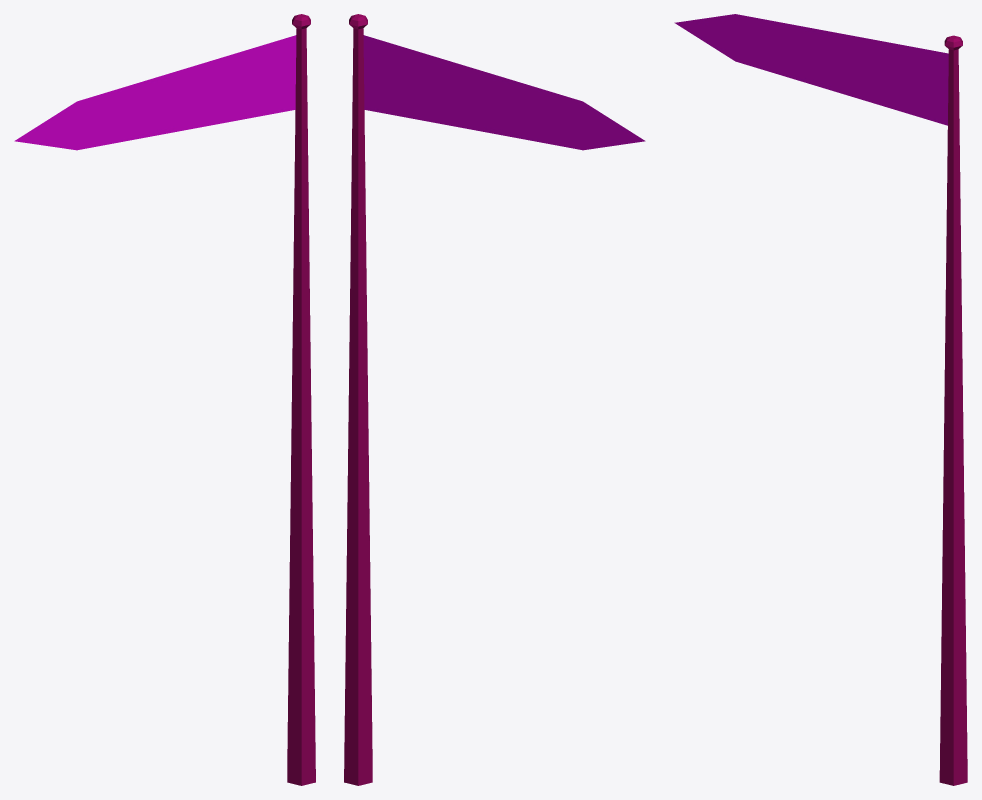
File: Flag.gltf
3 views of the same model, side by side, from view 1: azimuth 30°, elevation 25°; view 2: azimuth 150°, elevation 25°; view 3: azimuth 330°, elevation 25° (orthographic). The views are drawn at different scales.
Visible parts, largest first — view 1: Flag_human_01; view 2: Flag_human_01; view 3: Flag_human_01.
Boxes of the visible parts, bbox=[...] form: Flag_human_01: bbox=[14, 14, 315, 785]; Flag_human_01: bbox=[344, 14, 645, 785]; Flag_human_01: bbox=[674, 14, 967, 785].
Bounding box in the file's own units: 1.68 × 4.06 × 0.1386.
1 material, 1 textured.
